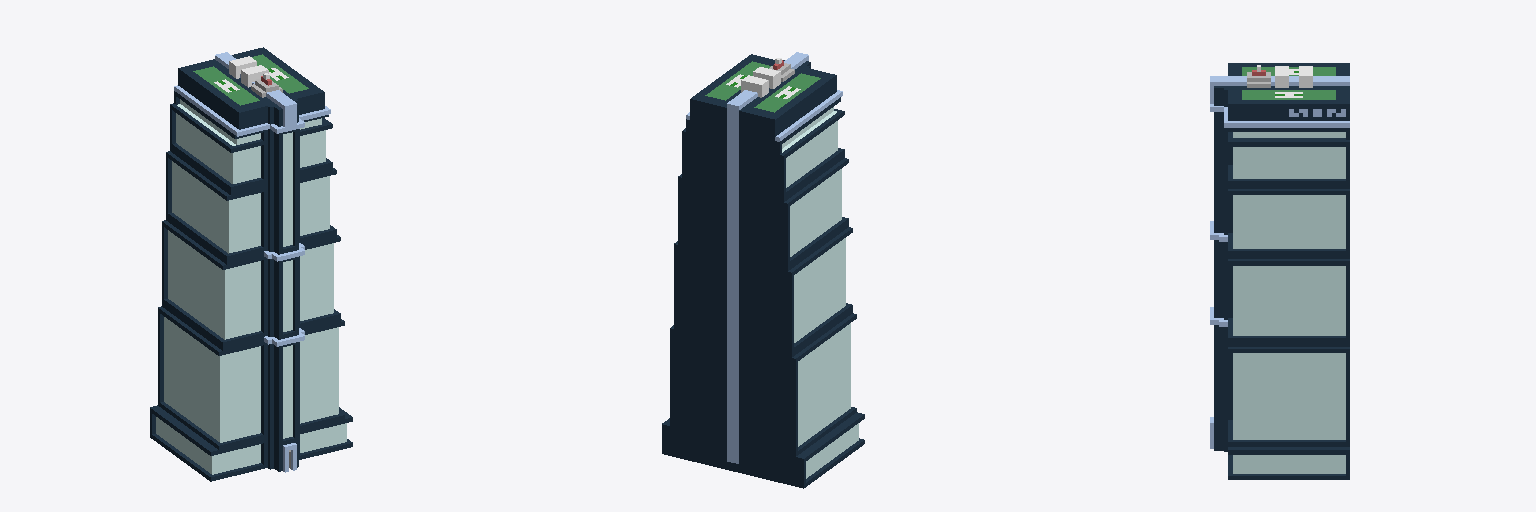
The picture shows the model from 3 angles: view 1: azimuth 30°, elevation 25°; view 2: azimuth 150°, elevation 25°; view 3: azimuth 270°, elevation 25°; orthographic projection.
Size of the model in its own units: 35 by 89 by 30.
Materials: 1 (1 with a texture image).